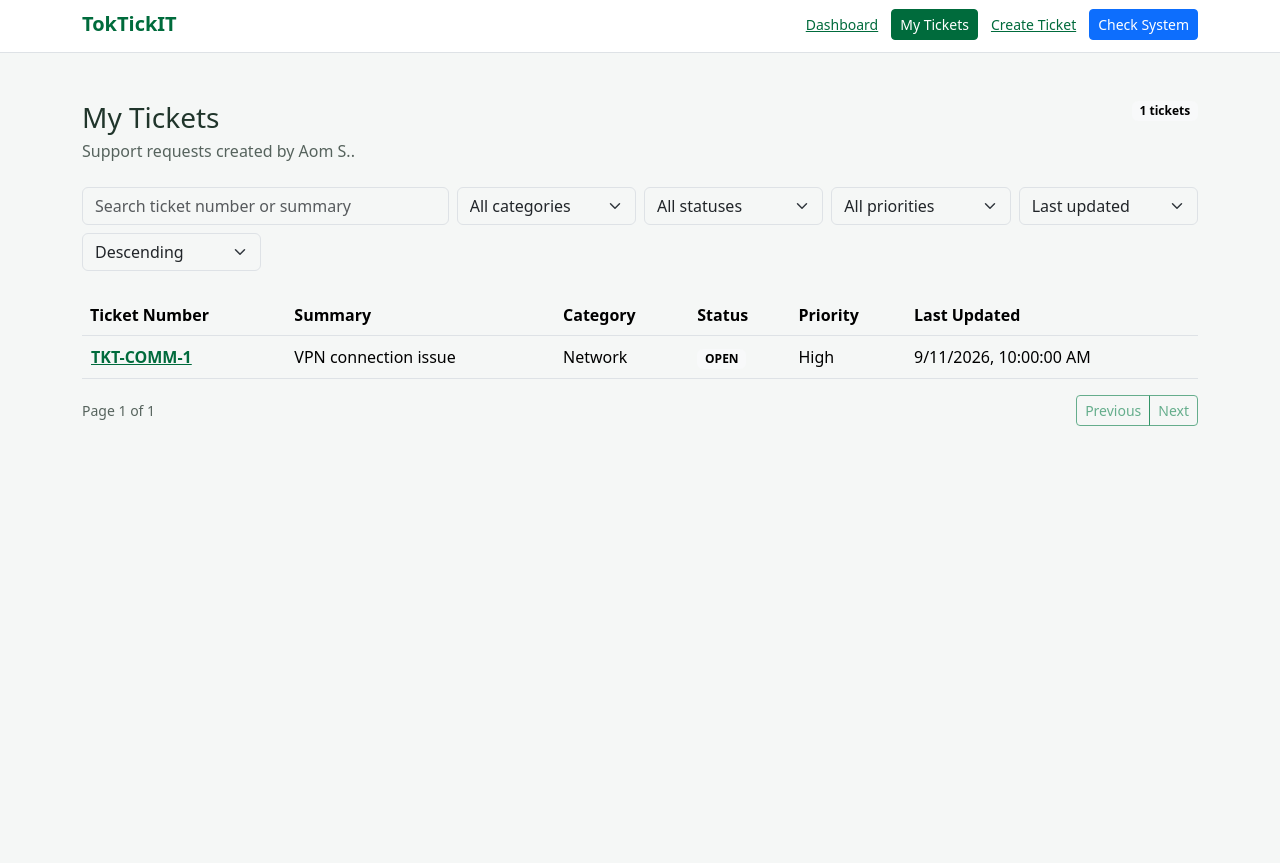
Test: Lab 3 comments, notes, and resolution UI › reconciles a Requester comment committed before its response is lost
Click the button "TKT-COMM-1": (141, 357) [90, 344, 193, 370]
(page scrolled)
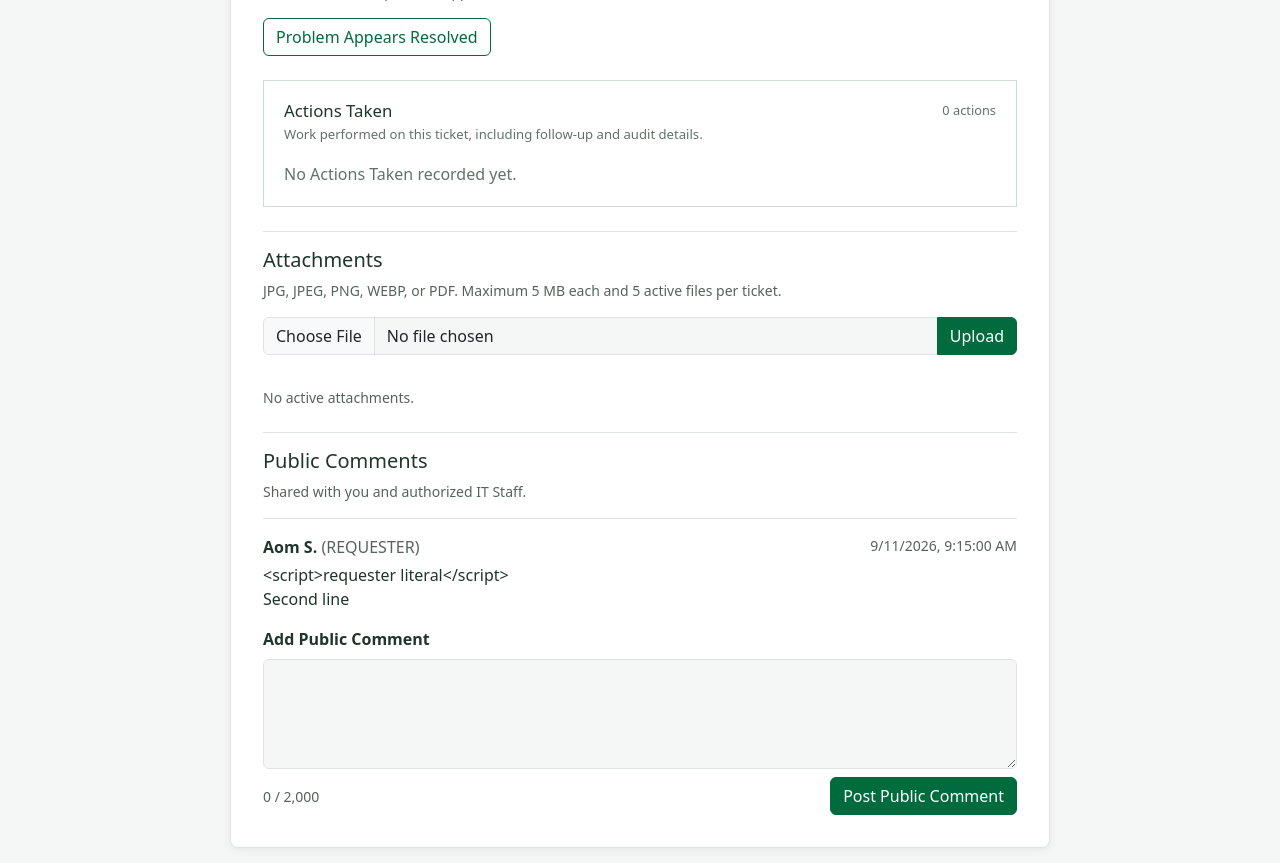
In the text box labelled "Add Public Comment": (640, 714) [263, 659, 1017, 769], type "Committed before response loss"
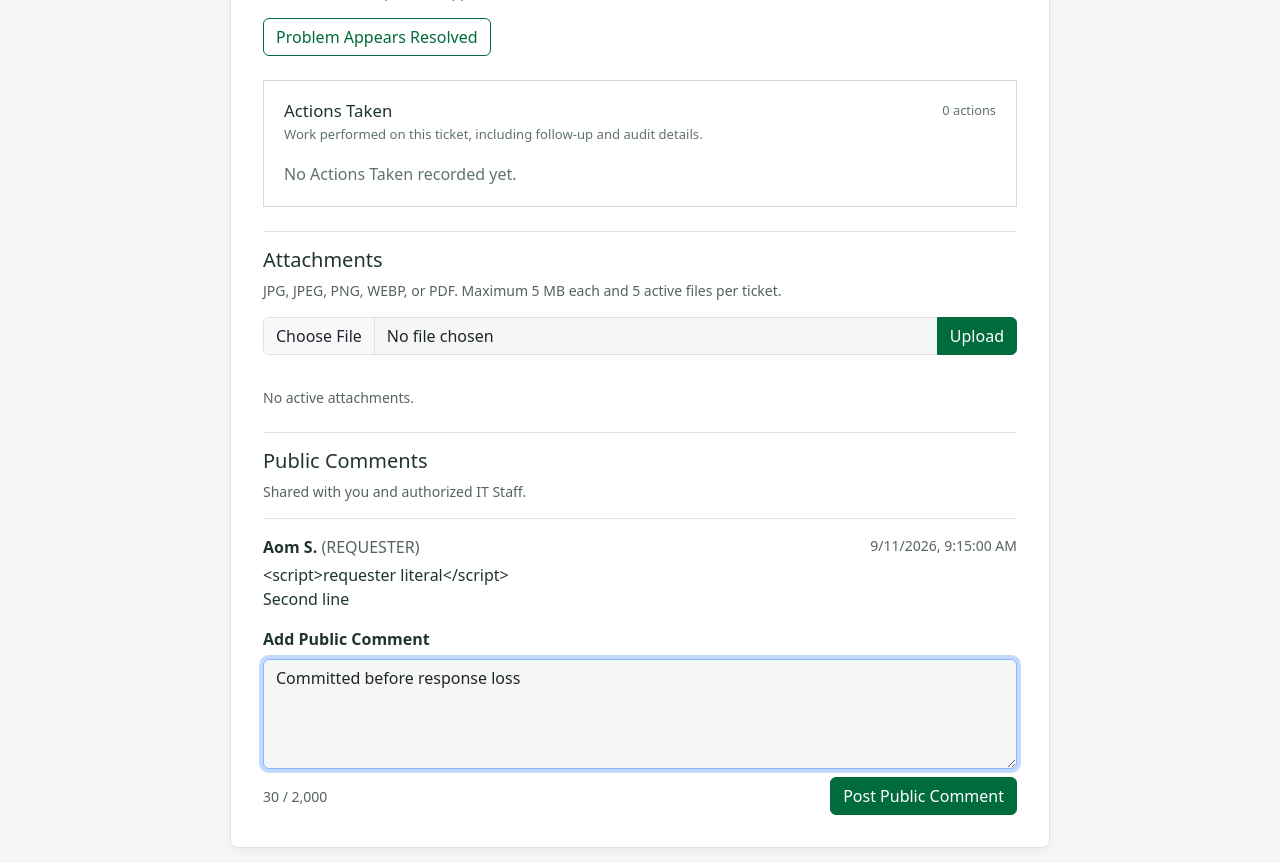
Click the button "Post Public Comment": (924, 796) [830, 777, 1017, 815]
(page scrolled)
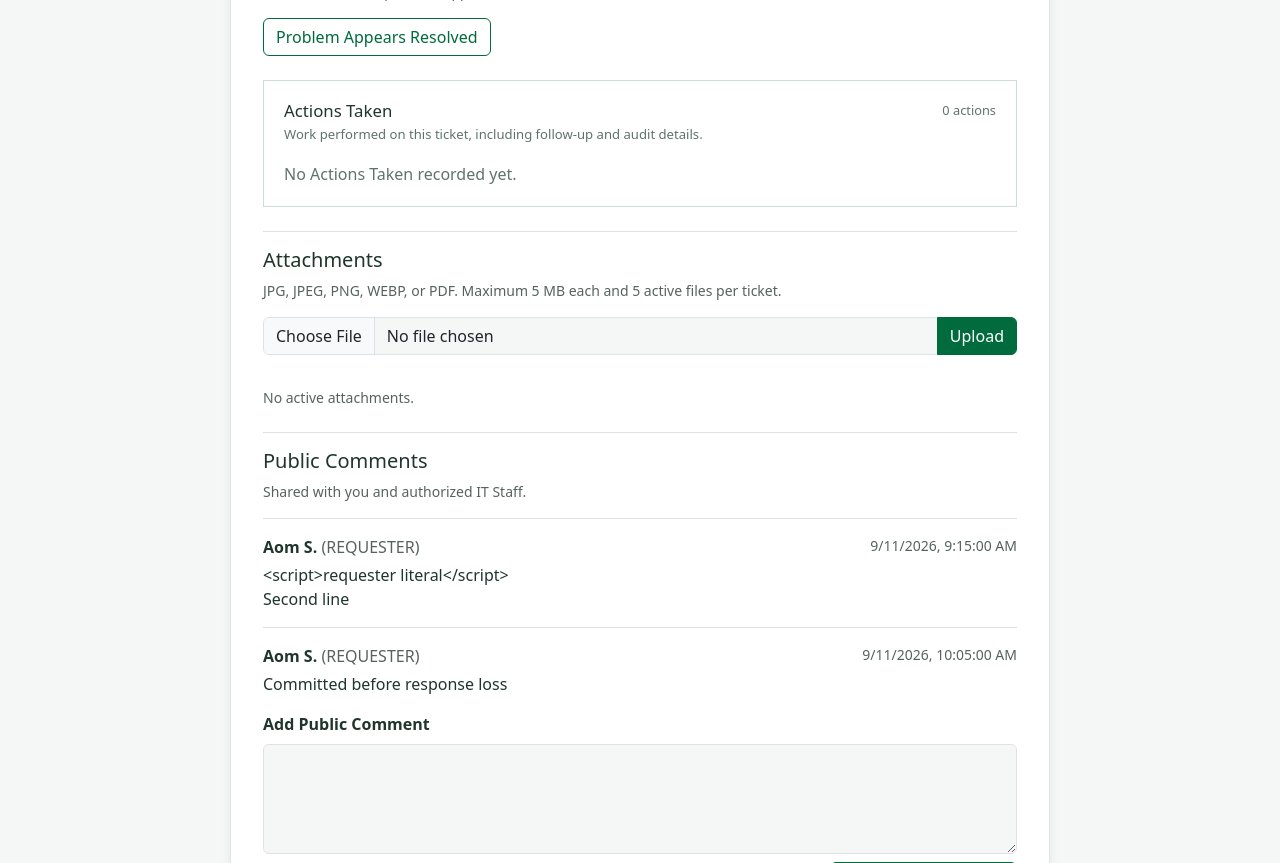
Expected: the text "Committed before response loss" is shown, [263, 673, 507, 695]
Expected: the text box labelled "Add Public Comment" is empty, [263, 744, 1017, 854]
